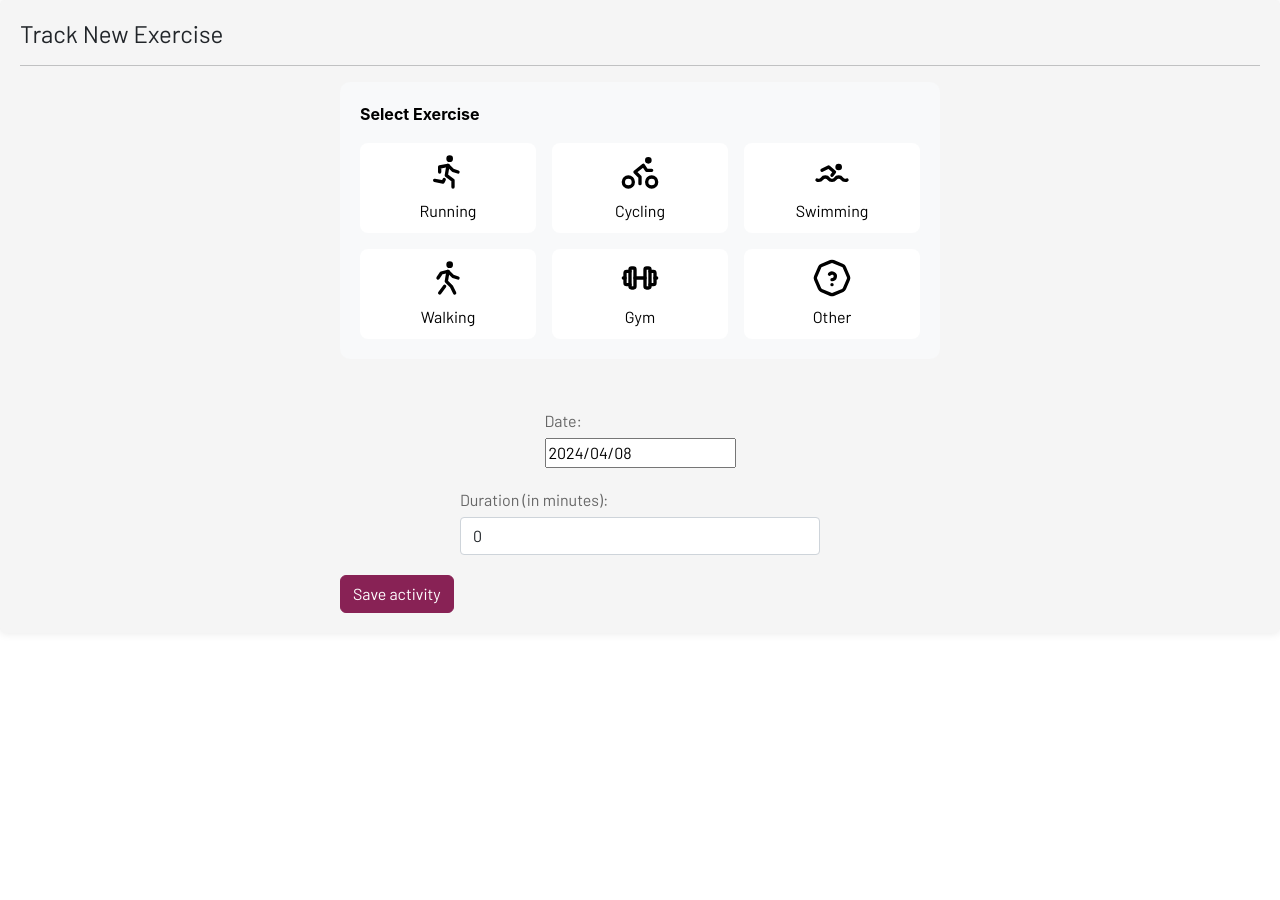
Test case: TrackExercise › displays error message when submitting without required fields
Click the button with test id "submit-button": (397, 594) [340,575,454,613]
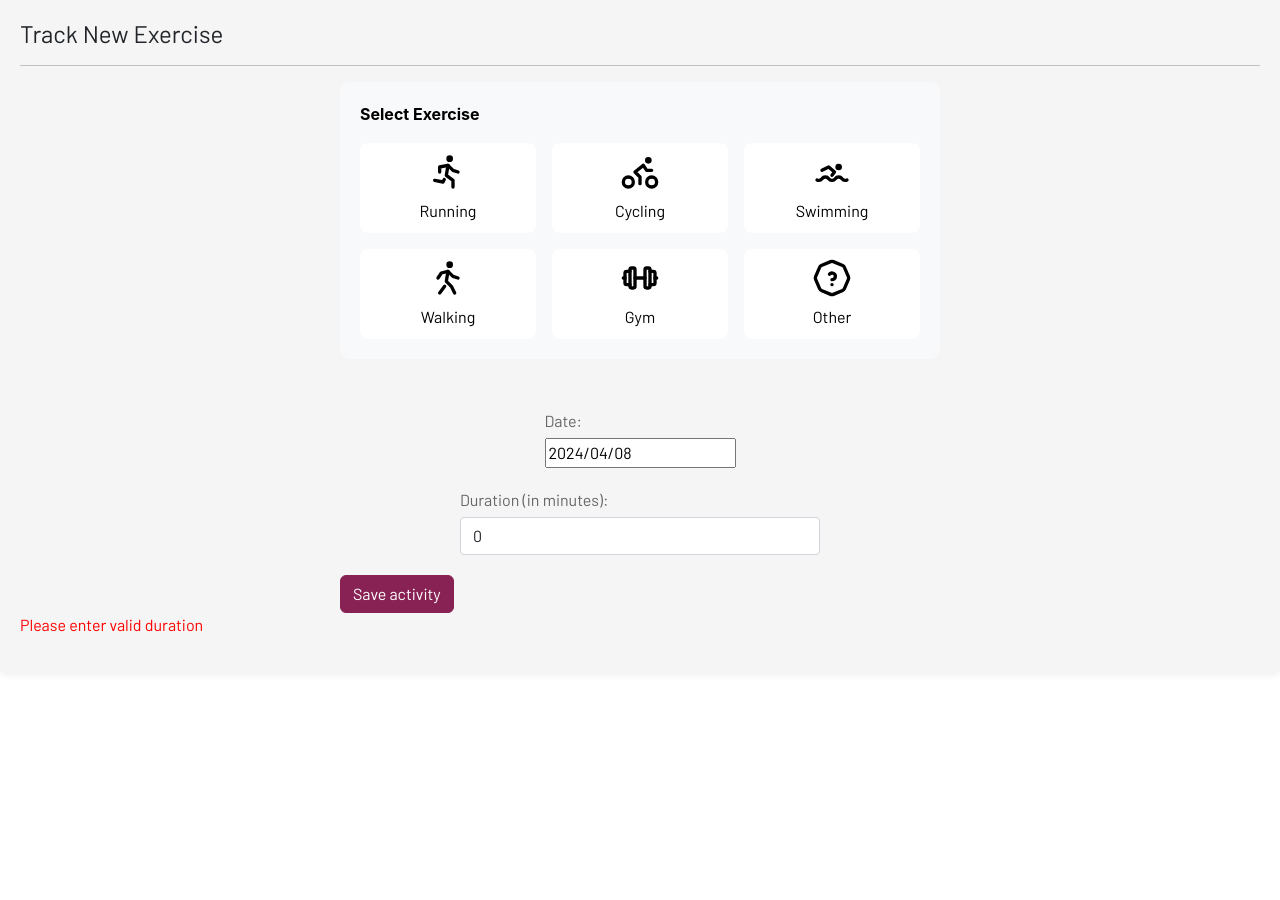
Expected: the text "Please enter valid duration" is shown, [20,615,203,634]
